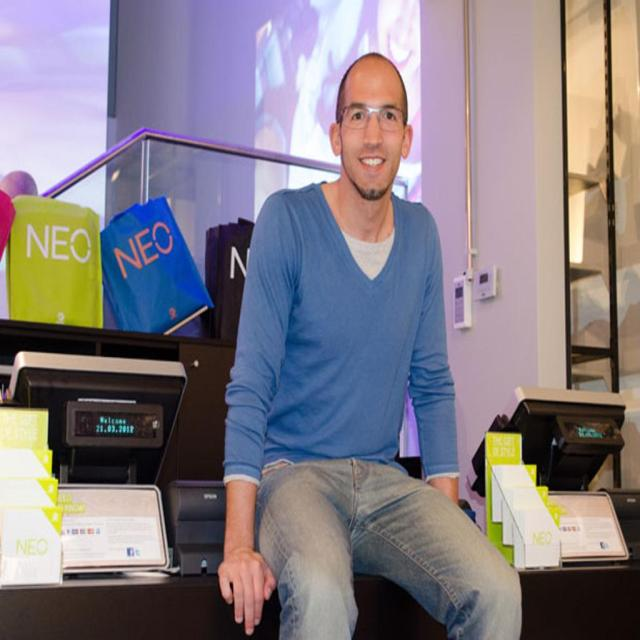Face: (334, 61, 430, 202)
